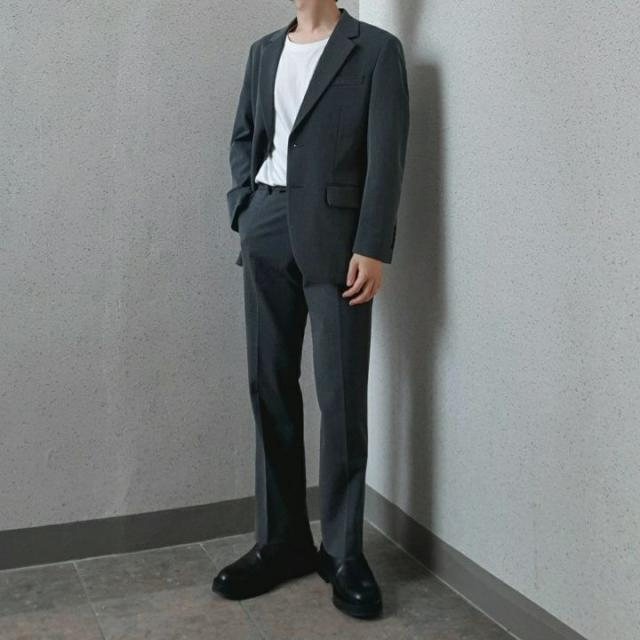blazer: (225, 8, 408, 286)
slacks: (235, 181, 371, 566)
